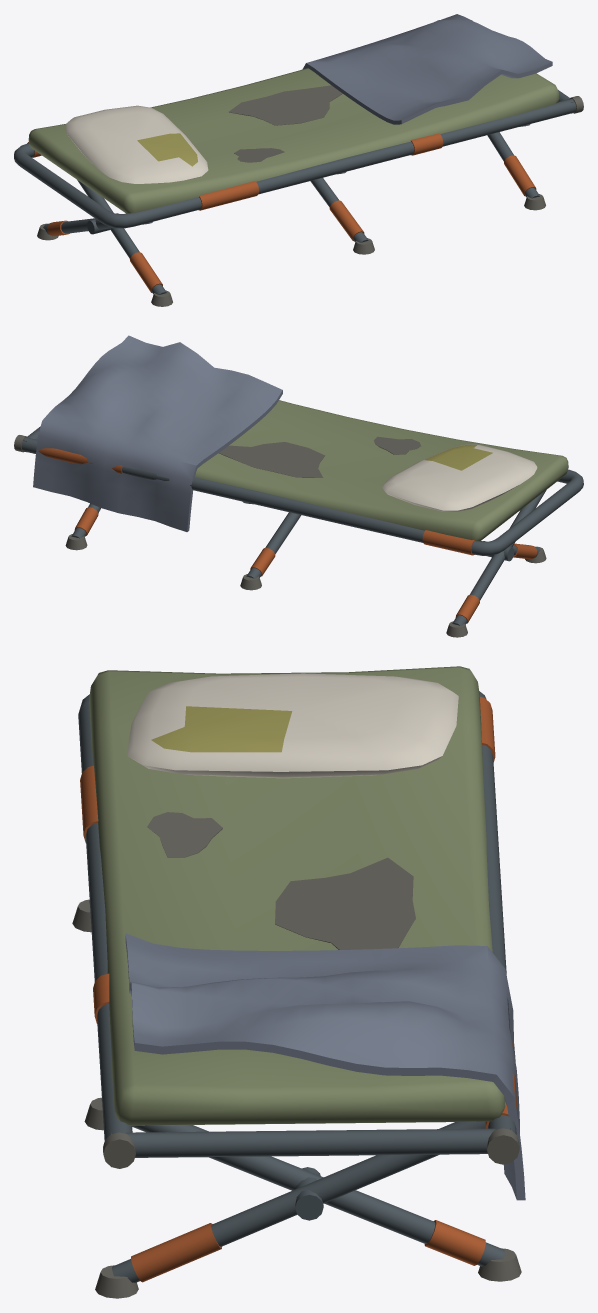
Rendered from cot.glb.
3 views of the same model, one above another, from view 1: azimuth 30°, elevation 25°; view 2: azimuth 150°, elevation 25°; view 3: azimuth 270°, elevation 25° (orthographic). The views are drawn at different scales.
Parts seen in each view (by area): view 1: cot; view 2: cot; view 3: cot.
Part boxes in pixels (x1,y1,x2,y2): cot: [14, 14, 583, 306]; cot: [14, 335, 583, 637]; cot: [72, 666, 525, 1298].
Bounding box in the file's own units: 2.01 × 0.5594 × 0.8267.
